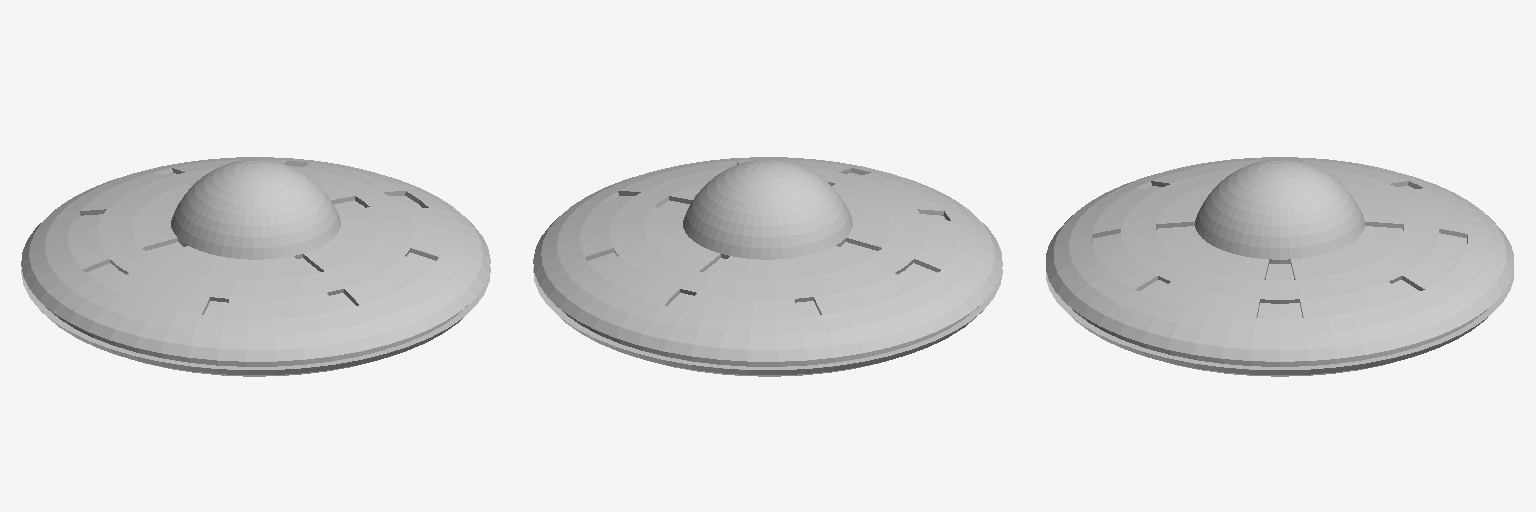
File: ownUfo_versatz.obj
3 views of the same model, side by side, from view 1: azimuth 30°, elevation 25°; view 2: azimuth 150°, elevation 25°; view 3: azimuth 270°, elevation 25° (orthographic).
Visible parts, largest first — view 1: pSphere4; view 2: pSphere4; view 3: pSphere4.
Part boxes in pixels (left/top/right/bottom): pSphere4: left=21, top=157, right=490, bottom=376; pSphere4: left=533, top=157, right=1002, bottom=376; pSphere4: left=1046, top=157, right=1513, bottom=376.
Bounding box in the file's own units: 6.92 × 2.87 × 6.91.